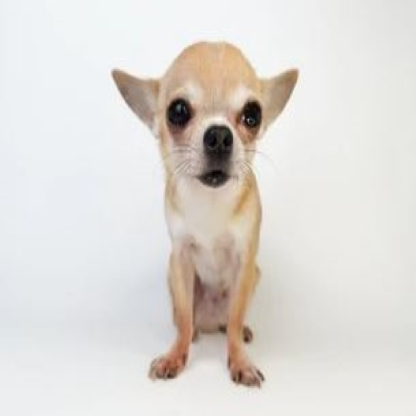chihuahua: (106, 37, 301, 390)
